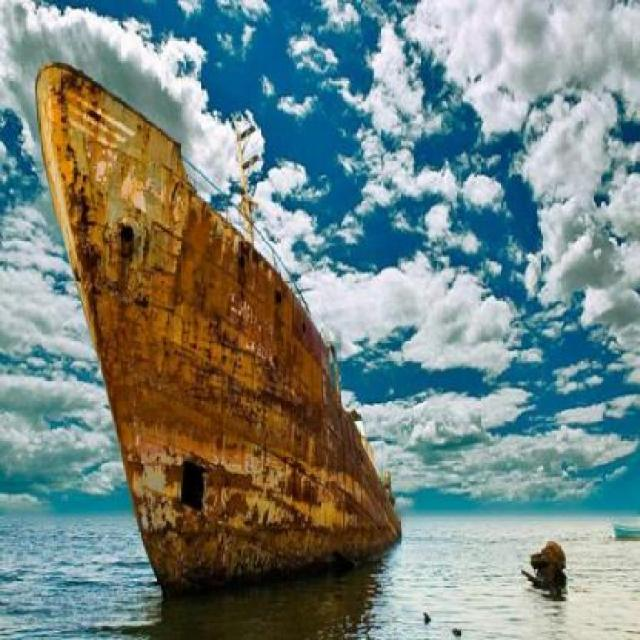corrosion: (36, 63, 404, 603)
